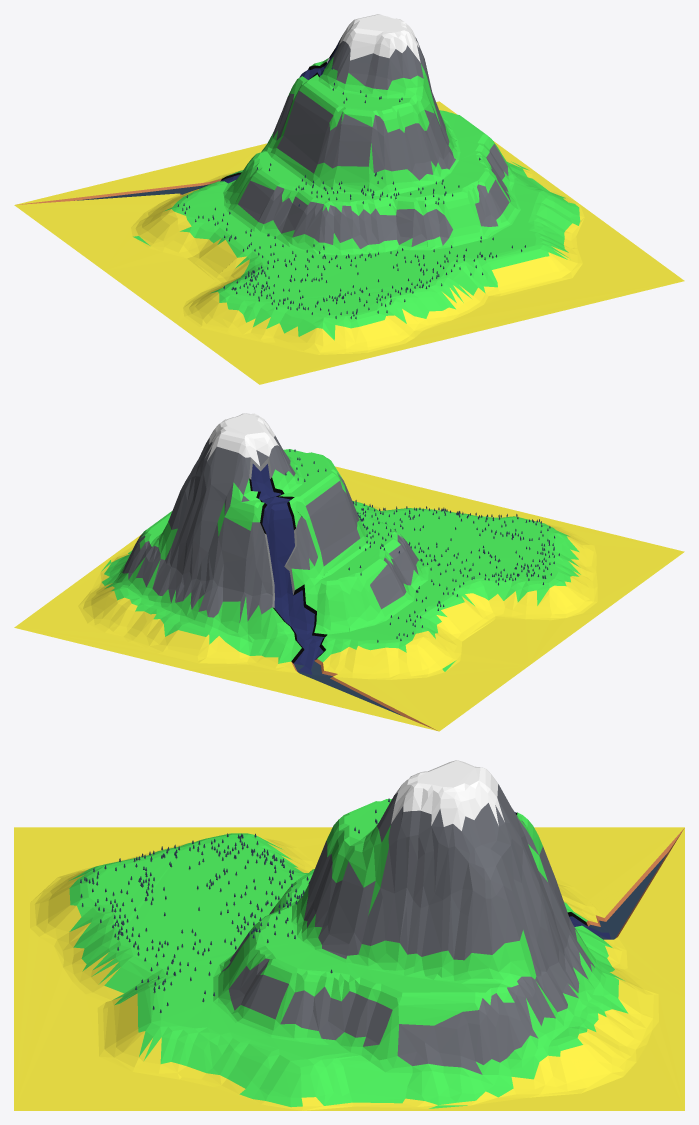
File: island1.glb
3 renders of one model, top to bottom at view 1: azimuth 30°, elevation 25°; view 2: azimuth 150°, elevation 25°; view 3: azimuth 270°, elevation 25°, orthographic. The views are drawn at different scales.
Parts seen in each view (by area): view 1: Land; view 2: Land; view 3: Land.
Part boxes in pixels (x1,y1,x2,y2): Land: (14,14,684,384); Land: (14,413,684,731); Land: (14,760,684,1110).
Size of the model in its own units: 1000 by 398 by 1000.
Materials: 1 (1 with a texture image).
